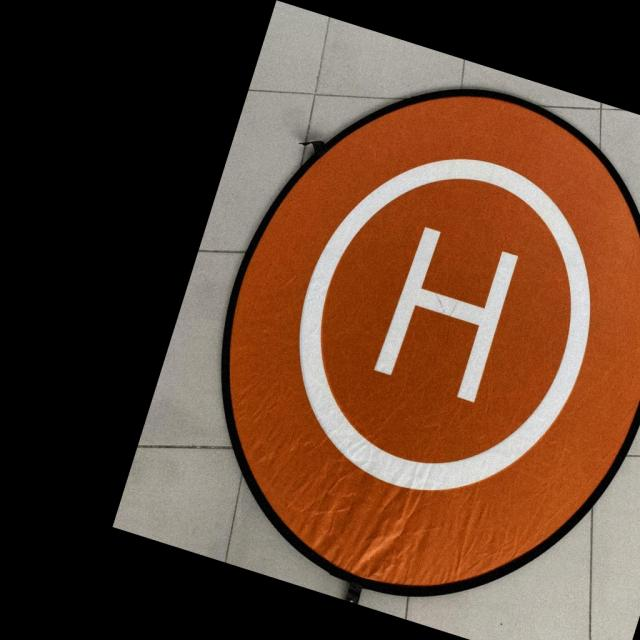helipad: (294, 155, 596, 498)
